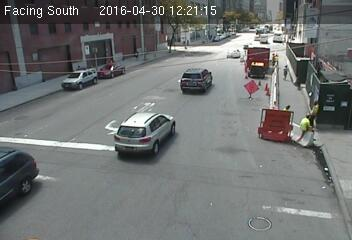neg: (114, 61, 138, 92), (152, 102, 174, 132), (76, 132, 95, 158), (179, 73, 197, 97)
pos: (304, 97, 322, 122), (265, 49, 282, 71), (296, 111, 311, 131), (278, 63, 292, 82), (283, 100, 291, 111)
